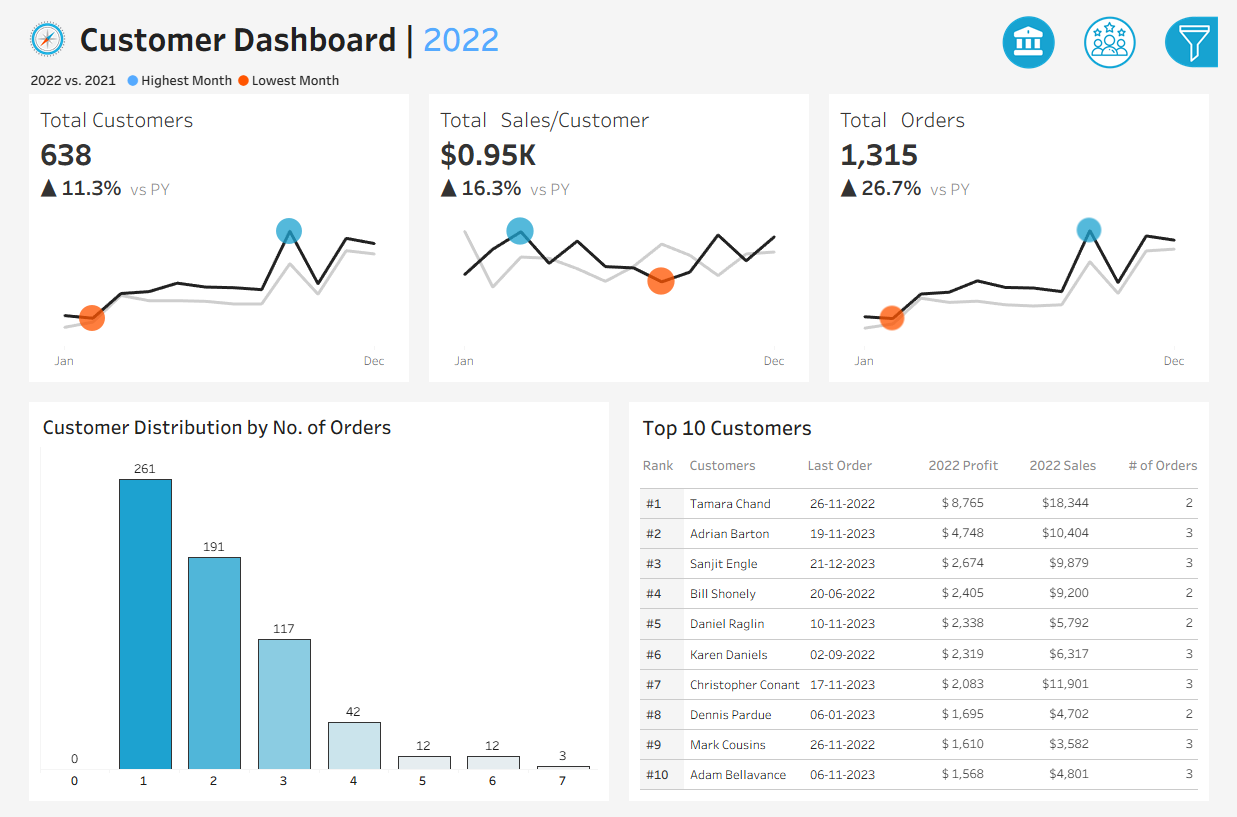

The dashboard page shown, as its layout file describes it:
{"tool":"tableau","page":{"name":"Customer Dashboard","canvas":[1200,800],"ordinal":0},"visuals":[{"type":"image","param":"Image/Icon - Logo.png","box":[2,0,52,55]},{"type":"text","box":[54,0,930,55]},{"type":"dashboard-object","box":[969,0,81,62]},{"type":"dashboard-object","box":[1050,0,81,62]},{"type":"blank","box":[978,5,215,80]},{"type":"worksheet","title":"Legend of KPI","mark":"Automatic","box":[0,55,1200,28]},{"type":"worksheet","title":"KPI Customers","mark":"Line","rows":["Min/Max profit (copy)_0750723922718724"],"cols":["Order Date"],"box":[0,83,400,298]},{"type":"worksheet","title":"KPI Sales Per Customers","mark":"Line","rows":["Min/Max Customers (copy)_0750723931500553"],"cols":["Order Date"],"box":[400,83,400,298]},{"type":"worksheet","title":"KPI Orders","mark":"Line","rows":["Min/Max Customers (copy)_0125651641778185"],"cols":["Order Date"],"box":[800,83,400,298]},{"type":"text","box":[978,85,215,32]},{"type":"parameter","param":"[Parameters].[Parameter 1018997670502403]","box":[978,117,215,63]},{"type":"blank","box":[978,180,215,45]},{"type":"text","box":[978,225,215,29]},{"type":"filter","title":"Customer Distribution","param":"[federated.0a49qa90tgosyq102g3m016yynfo].[none:Category:nk]","box":[978,254,215,52]},{"type":"filter","title":"Customer Distribution","param":"[federated.0a49qa90tgosyq102g3m016yynfo].[none:Sub-Category:nk]","box":[978,306,215,52]},{"type":"blank","box":[978,358,215,42]},{"type":"text","box":[17,398,566,34]},{"type":"text","box":[617,398,566,36]},{"type":"text","box":[978,400,215,38]},{"type":"worksheet","title":"Customer Distribution","mark":"Bar","rows":["Calculation_0190247816388609"],"cols":["Calculation_0506357867786240"],"box":[17,432,566,351]},{"type":"text","box":[617,434,47,39]},{"type":"text","box":[664,434,118,39]},{"type":"text","box":[782,434,121,39]},{"type":"text","box":[903,434,101,39]},{"type":"text","box":[1004,434,99,39]},{"type":"text","box":[1103,434,80,39]},{"type":"filter","title":"Customer Distribution","param":"[federated.0a49qa90tgosyq102g3m016yynfo].[none:Region:nk]","box":[978,438,215,52]},{"type":"worksheet","title":"Top Customers","mark":"Automatic","rows":["Calculation_0382663016828929","Customer Name","Order Date"],"box":[617,473,566,310]},{"type":"filter","title":"Customer Distribution","param":"[federated.0a49qa90tgosyq102g3m016yynfo].[none:State:nk]","box":[978,490,215,52]},{"type":"filter","title":"Customer Distribution","param":"[federated.0a49qa90tgosyq102g3m016yynfo].[none:City:nk]","box":[978,542,215,52]}]}

Visuals, with their boxes in screenshot pixels (x1, y1, x2, y2), scaled from the page's 1200x800 canvas onto the 1237x817 screenshot:
image: bbox=[2, 0, 56, 56]
text: bbox=[56, 0, 1014, 56]
dashboard-object: bbox=[999, 0, 1082, 63]
dashboard-object: bbox=[1082, 0, 1166, 63]
blank: bbox=[1008, 5, 1230, 87]
"Legend of KPI" worksheet: bbox=[0, 56, 1236, 85]
"KPI Customers" worksheet (Line marks): bbox=[0, 85, 412, 389]
"KPI Sales Per Customers" worksheet (Line marks): bbox=[412, 85, 825, 389]
"KPI Orders" worksheet (Line marks): bbox=[825, 85, 1236, 389]
text: bbox=[1008, 87, 1230, 119]
parameter: bbox=[1008, 119, 1230, 184]
blank: bbox=[1008, 184, 1230, 230]
text: bbox=[1008, 230, 1230, 259]
"Customer Distribution" filter: bbox=[1008, 259, 1230, 313]
"Customer Distribution" filter: bbox=[1008, 313, 1230, 366]
blank: bbox=[1008, 366, 1230, 408]
text: bbox=[18, 406, 601, 441]
text: bbox=[636, 406, 1219, 443]
text: bbox=[1008, 408, 1230, 447]
"Customer Distribution" worksheet (Bar marks): bbox=[18, 441, 601, 800]
text: bbox=[636, 443, 684, 483]
text: bbox=[684, 443, 806, 483]
text: bbox=[806, 443, 931, 483]
text: bbox=[931, 443, 1035, 483]
text: bbox=[1035, 443, 1137, 483]
text: bbox=[1137, 443, 1219, 483]
"Customer Distribution" filter: bbox=[1008, 447, 1230, 500]
"Top Customers" worksheet: bbox=[636, 483, 1219, 800]
"Customer Distribution" filter: bbox=[1008, 500, 1230, 554]
"Customer Distribution" filter: bbox=[1008, 554, 1230, 607]
